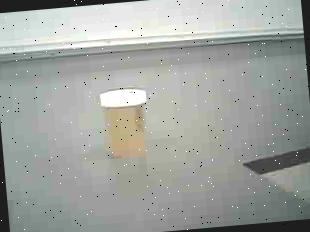Bottle B: (87, 78, 163, 168)
